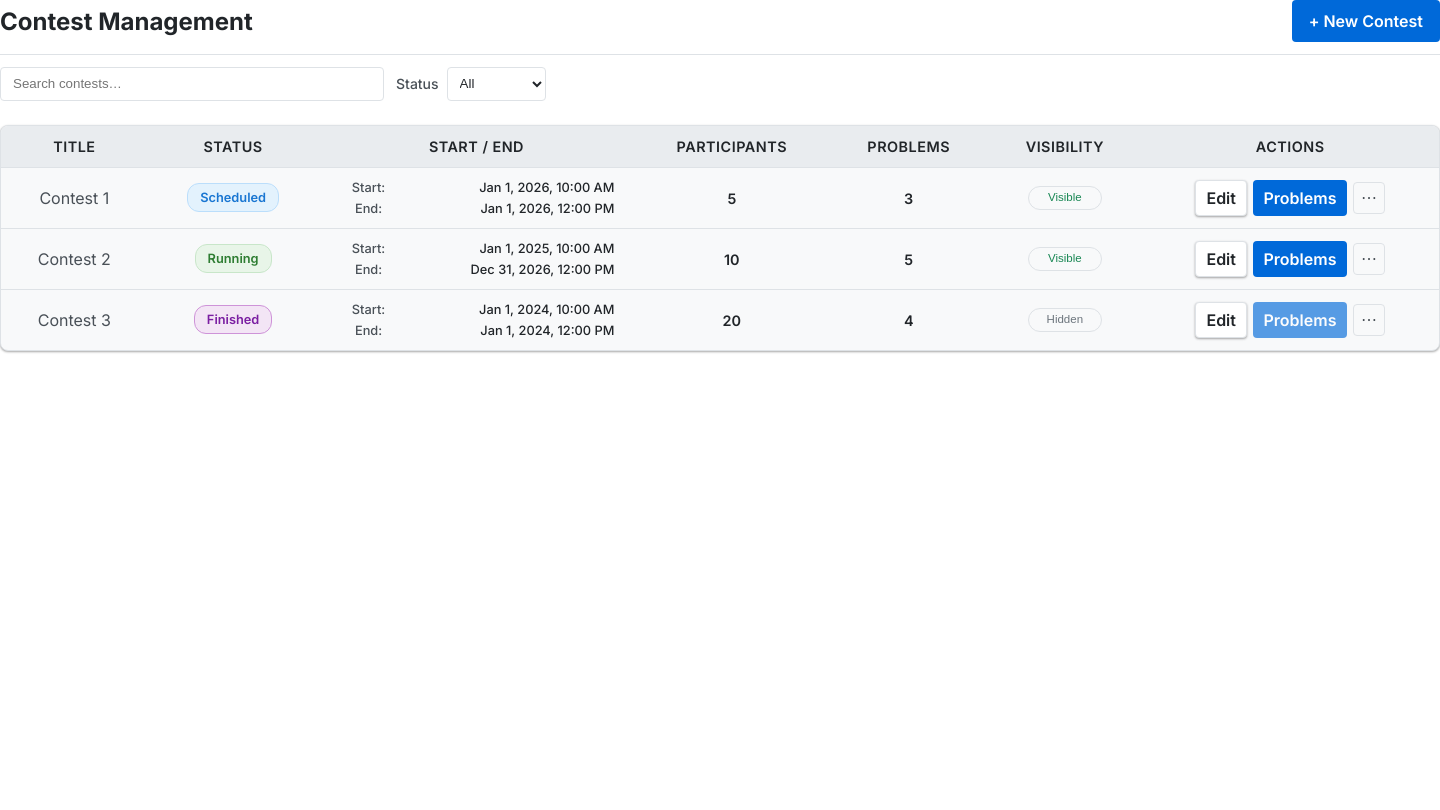
Test: ContestManagement Component › opens the rejudge confirm dialog and reports queued/skipped counts
Expected: the text "Contest 2" is shown, [1,228,148,289]
Click the button named "row actions for Contest 2" at (1369, 259), box [1353,243,1385,275]
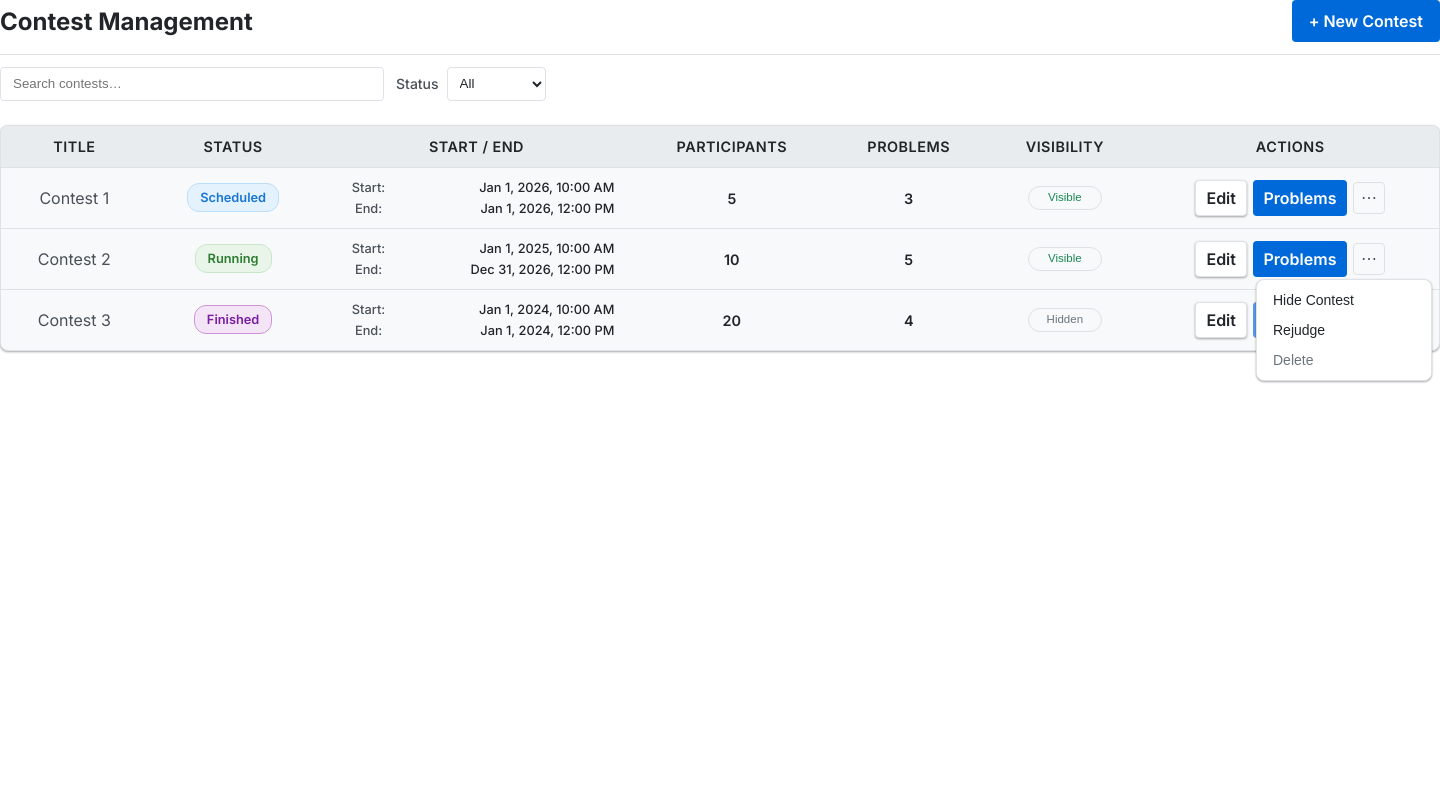
Click the menu item "Rejudge" at (1344, 330), box [1262,315,1426,345]
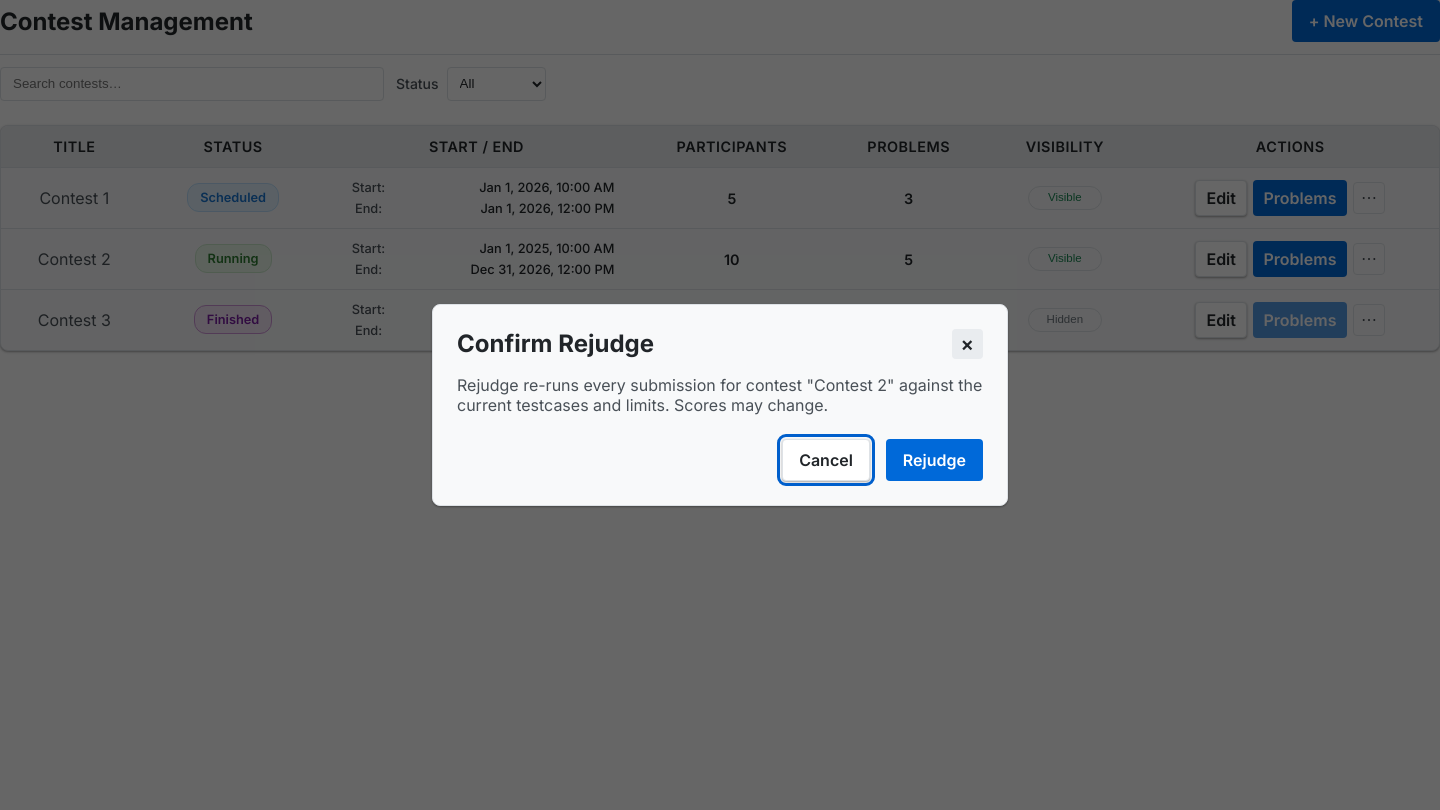
Now the text "scores may change" is shown, box [457,375,982,415]
Click the button "Rejudge" at (934, 460), box [886,439,983,481]
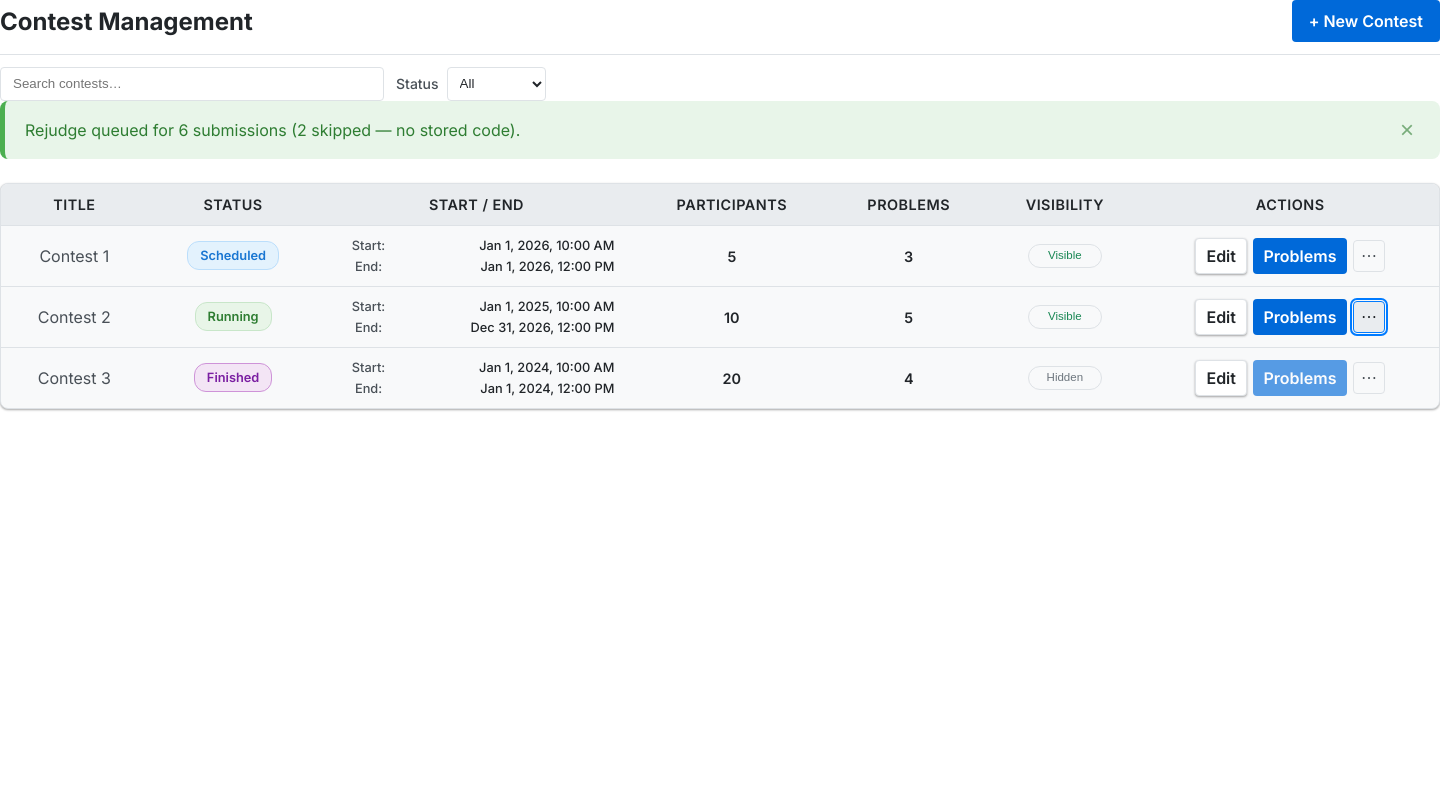
Now the text "Rejudge queued for 6 submissions (2 skipped — no stored code)" is shown, box [25,120,520,140]
